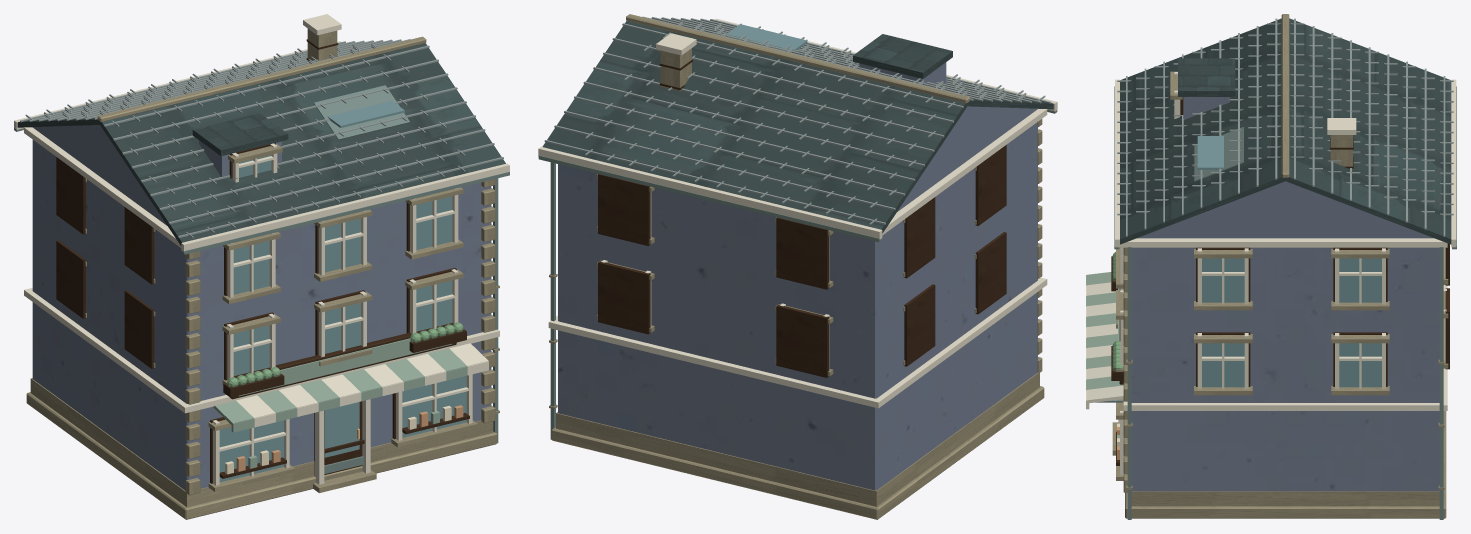
File: north_atelier.glb
The picture shows the model from 3 angles, left to right: view 1: azimuth 30°, elevation 25°; view 2: azimuth 150°, elevation 25°; view 3: azimuth 270°, elevation 25°; orthographic projection. The views are drawn at different scales.
Parts seen in each view (by area): view 1: north_atelier / north_atelier painted plaster, north_atelier / slate roof, north_atelier / limestone, north_atelier / ivory joinery, north_atelier / blue grey opaque glass, north_atelier / slate tile edge, north_atelier / oiled walnut, north_atelier / sage canopy, north_atelier / aged dark bronze, north_atelier / window box leaves; view 2: north_atelier / north_atelier painted plaster, north_atelier / slate roof, north_atelier / oiled walnut, north_atelier / limestone, north_atelier / slate tile edge, north_atelier / ivory joinery, north_atelier / aged dark bronze, north_atelier / blue grey opaque glass; view 3: north_atelier / north_atelier painted plaster, north_atelier / slate roof, north_atelier / limestone, north_atelier / ivory joinery, north_atelier / slate tile edge, north_atelier / blue grey opaque glass, north_atelier / aged dark bronze, north_atelier / oiled walnut, north_atelier / sage canopy.
Boxes of the visible parts, <box> form: north_atelier / north_atelier painted plaster: <box>32,125,491,490</box>; north_atelier / slate roof: <box>17,43,505,245</box>; north_atelier / limestone: <box>26,29,499,519</box>; north_atelier / ivory joinery: <box>14,14,509,485</box>; north_atelier / blue grey opaque glass: <box>219,100,466,482</box>; north_atelier / slate tile edge: <box>20,39,503,237</box>; north_atelier / oiled walnut: <box>56,39,469,483</box>; north_atelier / sage canopy: <box>213,338,467,468</box>; north_atelier / aged dark bronze: <box>14,85,509,474</box>; north_atelier / window box leaves: <box>227,322,463,387</box>; north_atelier / north_atelier painted plaster: <box>558,62,1037,490</box>; north_atelier / slate roof: <box>542,21,1053,233</box>; north_atelier / oiled walnut: <box>598,59,1006,377</box>; north_atelier / limestone: <box>549,14,1044,519</box>; north_atelier / slate tile edge: <box>544,16,1051,224</box>; north_atelier / ivory joinery: <box>538,18,1057,408</box>; north_atelier / aged dark bronze: <box>538,33,1057,439</box>; north_atelier / blue grey opaque glass: <box>727,24,807,50</box>; north_atelier / north_atelier painted plaster: <box>1131,97,1439,491</box>; north_atelier / slate roof: <box>1120,18,1451,244</box>; north_atelier / limestone: <box>1112,14,1448,518</box>; north_atelier / ivory joinery: <box>1086,72,1456,475</box>; north_atelier / slate tile edge: <box>1117,18,1453,236</box>; north_atelier / blue grey opaque glass: <box>1197,136,1381,387</box>; north_atelier / aged dark bronze: <box>1096,86,1456,519</box>; north_atelier / oiled walnut: <box>1111,97,1449,465</box>; north_atelier / sage canopy: <box>1086,272,1123,438</box>.
Bounding box in the file's own units: 10.94 × 11.52 × 10.7.
Materials: 13 (4 with a texture image).
